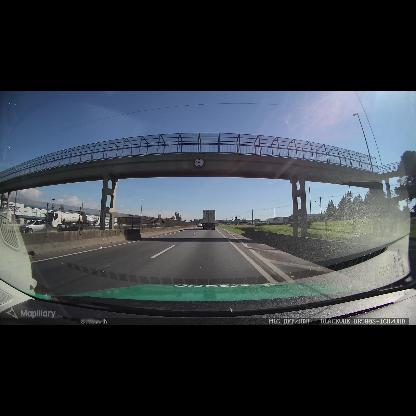R-15: (194, 158, 204, 167)
